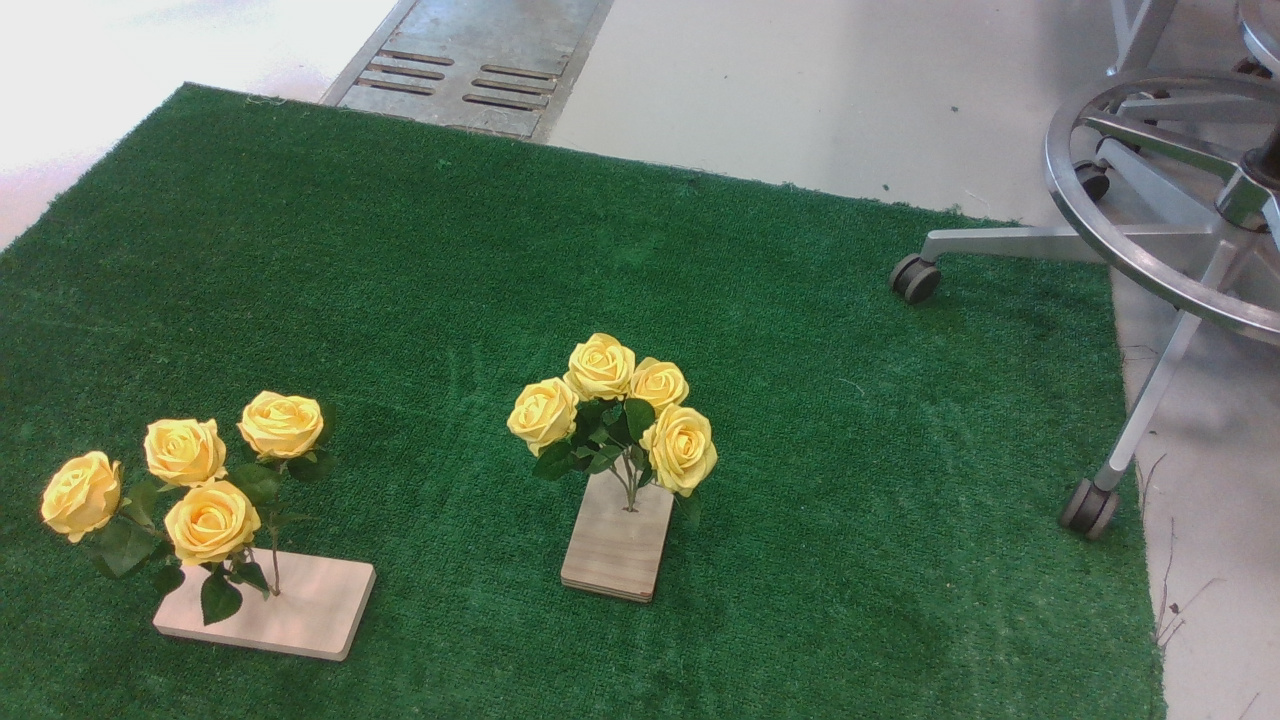rose: (41, 390, 336, 636), (503, 332, 730, 521)
